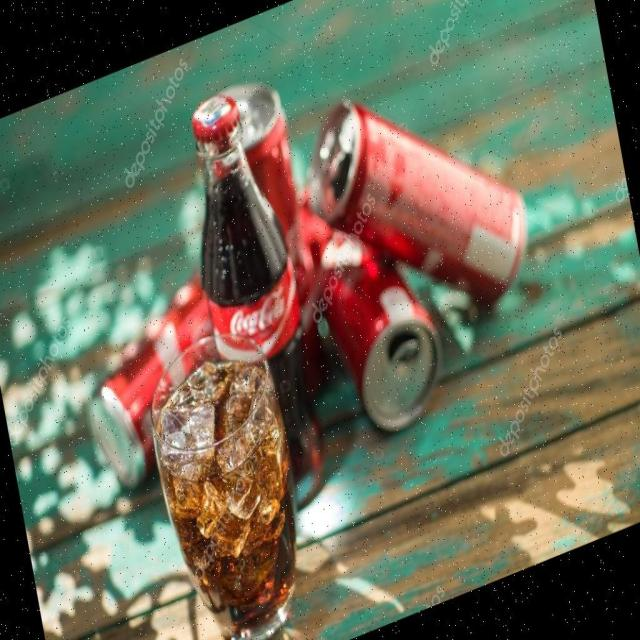coca-cola: (160, 76, 327, 500)
